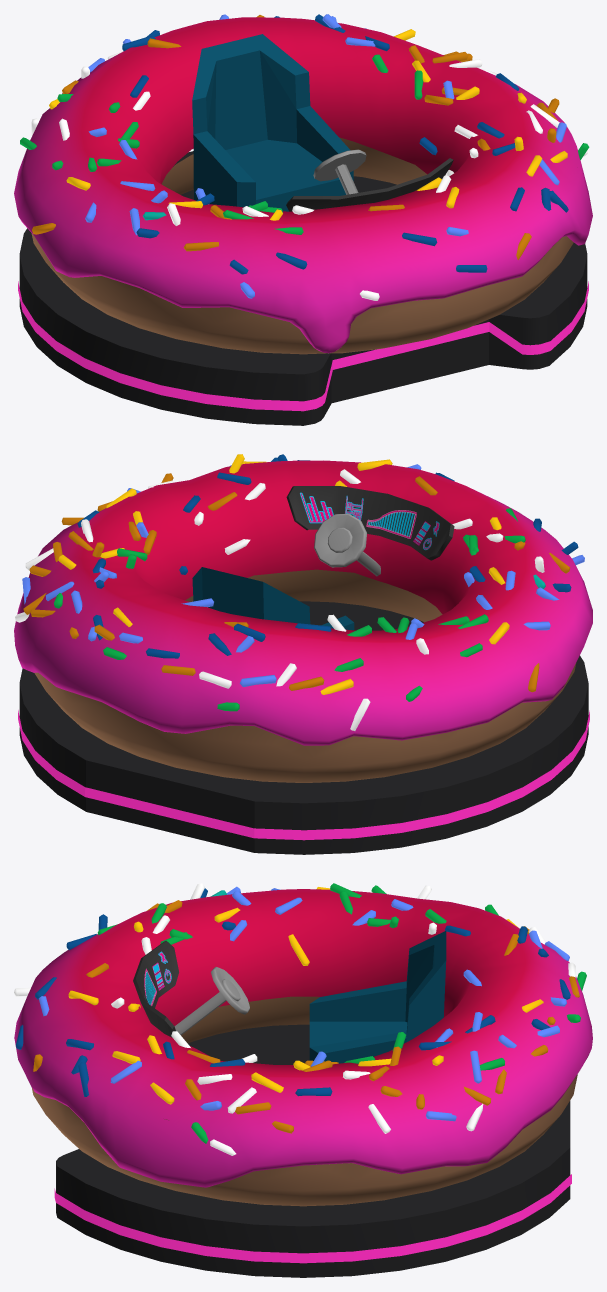
The model's file is vehicle.donut.hotpink.gltf.
3 renders of one model, top to bottom at view 1: azimuth 30°, elevation 25°; view 2: azimuth 150°, elevation 25°; view 3: azimuth 270°, elevation 25°, orthographic.
Parts seen in each view (by area): view 1: Torus.005, donut.pink.base, donut.pink.seat, donut.pink.body, donut.pink.sprinkles, speedster.neons.004, speedster.display.009, donut.pink.steering; view 2: Torus.005, donut.pink.base, donut.pink.body, donut.pink.sprinkles, speedster.display.009, speedster.neons.004, donut.pink.seat, donut.pink.steering; view 3: Torus.005, donut.pink.base, donut.pink.sprinkles, donut.pink.body, donut.pink.seat, speedster.neons.004, speedster.display.009, donut.pink.steering.
Boxes of the visible parts, x1,y1,x2,y2 form: Torus.005: [14, 17, 592, 353]; donut.pink.base: [19, 151, 587, 425]; donut.pink.seat: [192, 34, 353, 211]; donut.pink.body: [31, 137, 573, 354]; donut.pink.sprinkles: [20, 14, 589, 300]; speedster.neons.004: [18, 281, 588, 411]; speedster.display.009: [286, 158, 453, 211]; donut.pink.steering: [313, 149, 366, 194]; Torus.005: [14, 460, 592, 745]; donut.pink.base: [19, 601, 588, 854]; donut.pink.body: [34, 569, 576, 782]; donut.pink.sprinkles: [15, 454, 584, 730]; speedster.display.009: [286, 486, 454, 560]; speedster.neons.004: [18, 710, 589, 840]; donut.pink.seat: [192, 567, 354, 630]; donut.pink.steering: [314, 513, 380, 576]; Torus.005: [14, 889, 592, 1187]; donut.pink.base: [56, 1024, 570, 1277]; donut.pink.sprinkles: [14, 883, 586, 1155]; donut.pink.body: [31, 996, 577, 1206]; donut.pink.seat: [309, 931, 446, 1063]; speedster.neons.004: [54, 1174, 571, 1263]; speedster.display.009: [133, 940, 178, 1037]; donut.pink.steering: [174, 967, 249, 1035].
Size of what is drawn, in the model's own units: 2.04 by 0.8245 by 2.04.
Materials: 5 (5 with a texture image).
